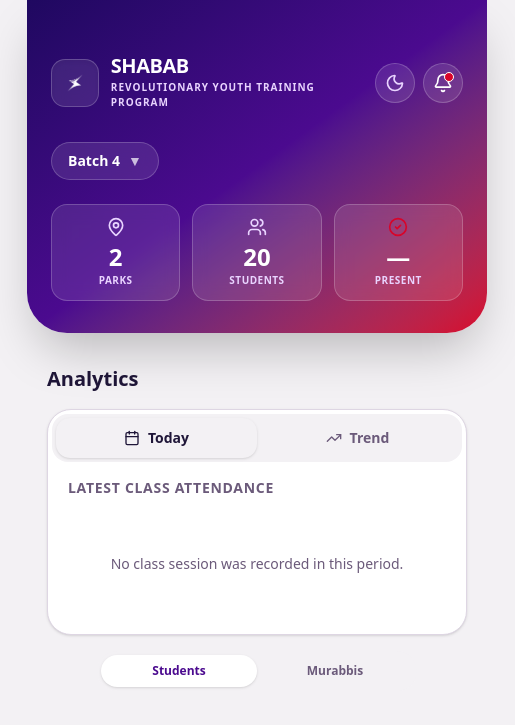
Scenario: MobileHomeDashboard › shows a truthful empty state with no graph or rate when no session is completed
Step 1. Click the button "Trend" → click(358, 438), box [257,418,458,458]
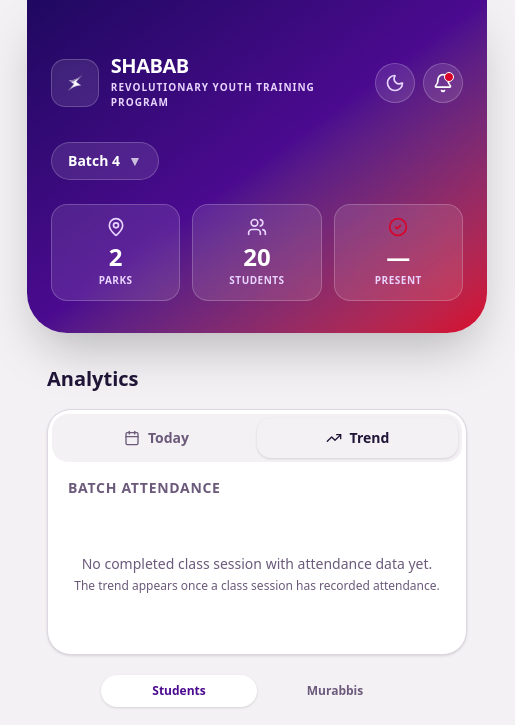
Expected: the text "No completed class session with attendance data yet." is shown, [68,554,446,574]
Expected: the text "The trend appears once a class session has recorded attendance." is shown, [68,578,446,594]
